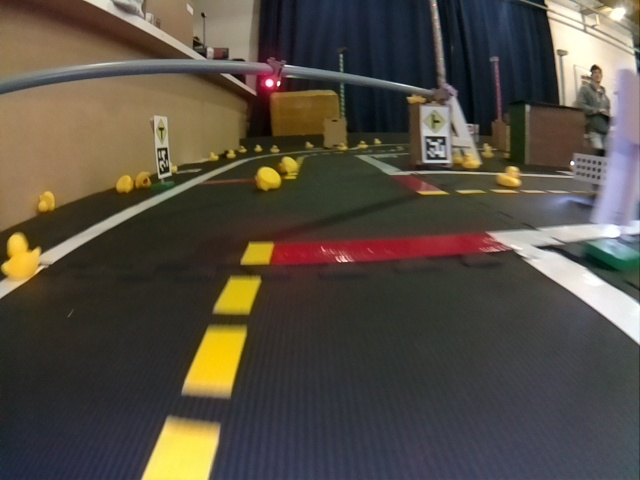Duckie: (3, 234, 41, 276), (256, 167, 279, 190), (497, 166, 521, 188), (39, 191, 55, 213), (279, 156, 298, 174), (136, 172, 150, 190), (116, 175, 131, 191), (464, 156, 479, 168), (304, 141, 313, 150), (270, 145, 278, 154), (254, 145, 263, 153), (227, 150, 236, 158), (358, 140, 366, 148), (209, 152, 217, 160), (337, 143, 346, 150)
Intersection sign: (423, 109, 447, 130), (155, 118, 168, 143)
QR code: (424, 136, 448, 161), (157, 148, 170, 174)
Traffic light: (261, 58, 284, 90)
